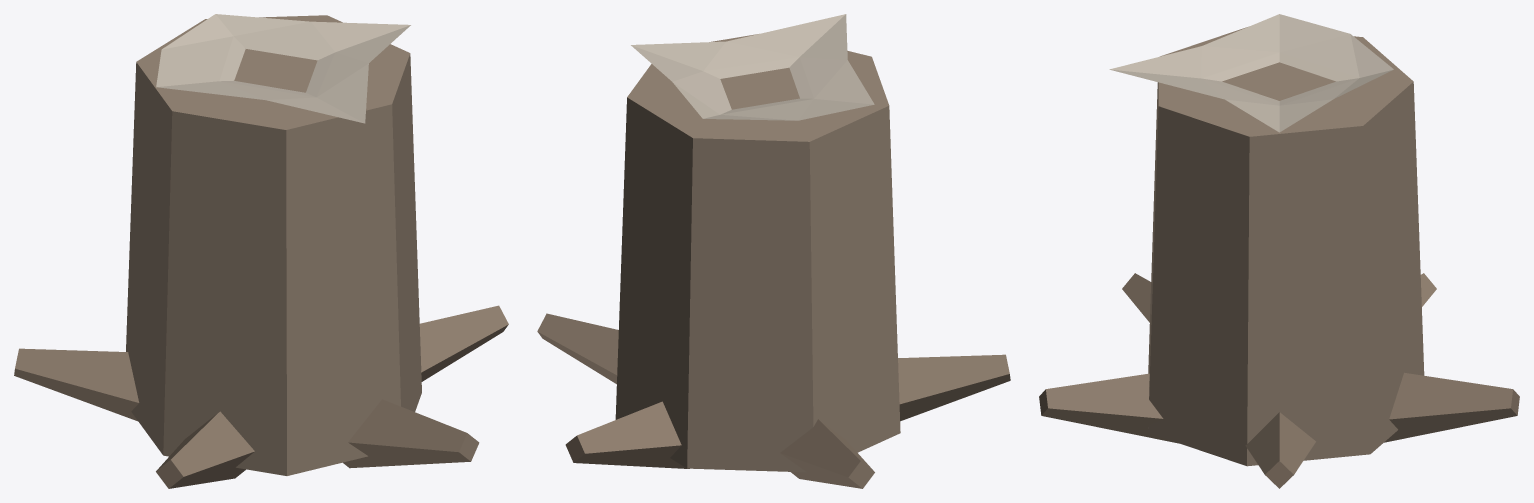
The model's file is stump_v32.glb.
3 renders of one model, left to right at view 1: azimuth 30°, elevation 25°; view 2: azimuth 150°, elevation 25°; view 3: azimuth 270°, elevation 25°, orthographic. The views are drawn at different scales.
Visible parts, largest first — view 1: lod0; view 2: lod0; view 3: lod0.
Part boxes in pixels (x1,y1,x2,y2): lod0: (14,14,508,488); lod0: (537,14,1010,488); lod0: (1039,14,1519,488).
Size of what is drawn, in the model's own units: 0.6931 by 0.6363 by 0.725.
